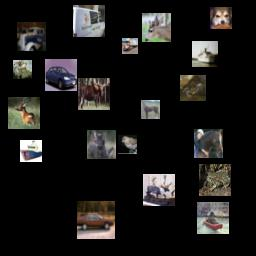automobile: (77, 201, 115, 239), (45, 59, 77, 91)
bird: (118, 135, 137, 154)
cat: (87, 130, 116, 159)
deer: (143, 174, 175, 206), (78, 78, 110, 110), (8, 97, 40, 129), (142, 13, 171, 42)
dog: (210, 7, 232, 29)
frog: (199, 164, 231, 196), (180, 75, 206, 101), (13, 60, 32, 79)
ship: (197, 202, 229, 234), (192, 41, 218, 67), (20, 140, 42, 162)
truck: (73, 5, 105, 37), (17, 22, 46, 51), (122, 38, 138, 54)
